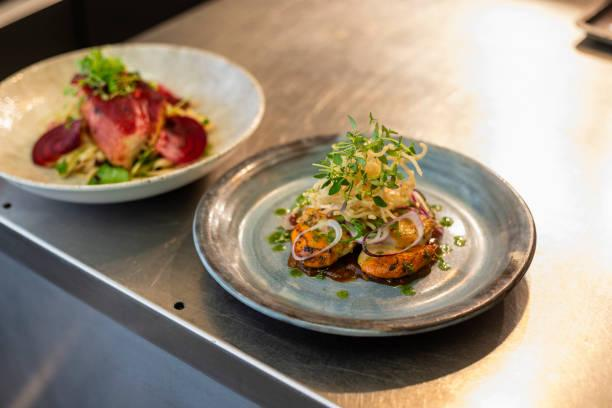Braised Crucian Carp: (192, 134, 535, 335), (0, 40, 264, 202)
